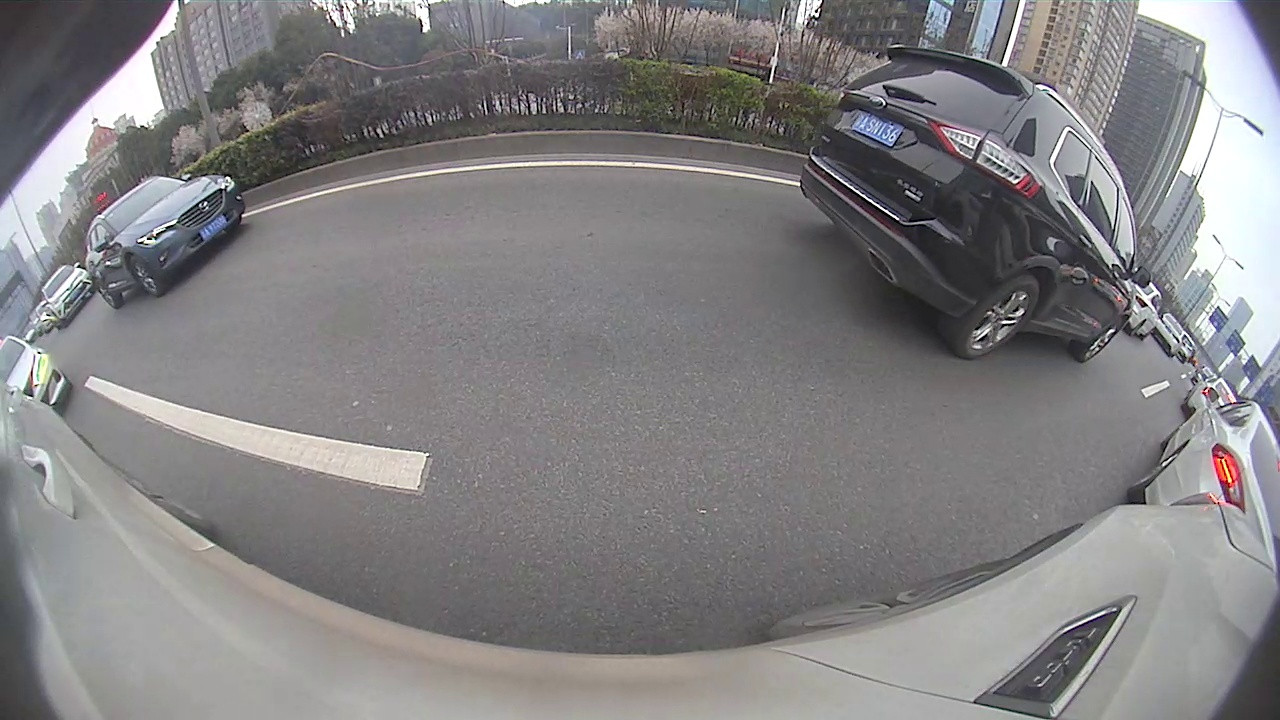car: (797, 44, 1154, 365), (1124, 386, 1278, 575), (84, 172, 248, 309), (38, 261, 96, 330)
front: (1077, 319, 1127, 363), (125, 258, 161, 296)
rear: (951, 275, 1041, 360)
